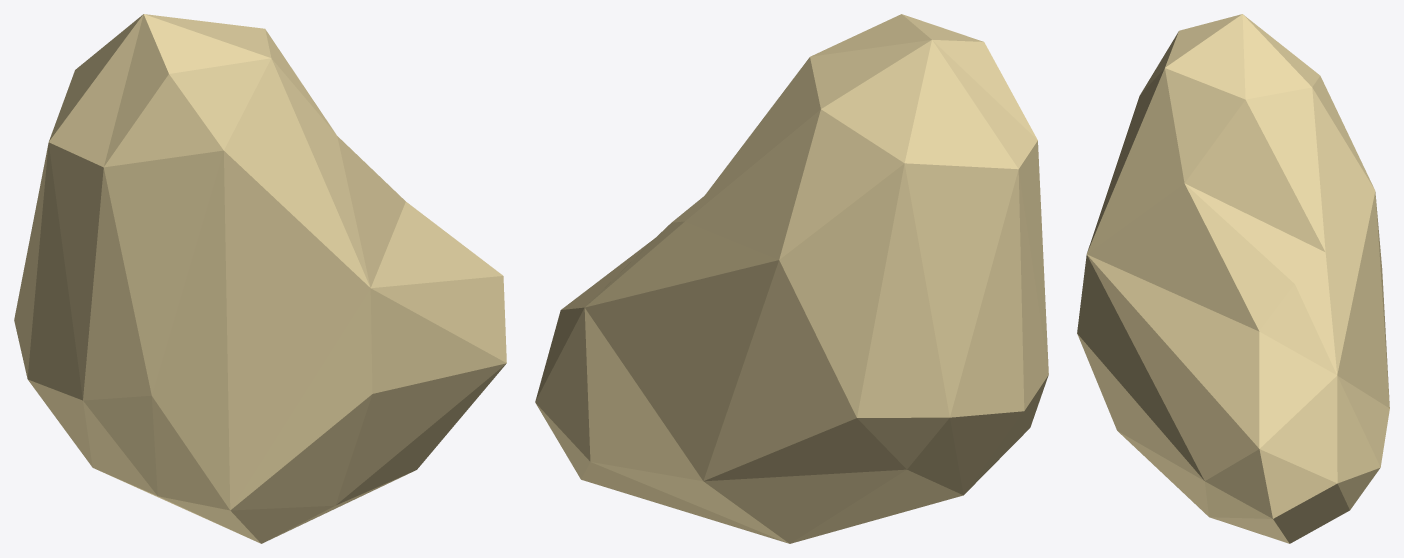
The model's file is Rock (48).fbx.
The picture shows the model from 3 angles, left to right: view 1: azimuth 30°, elevation 25°; view 2: azimuth 150°, elevation 25°; view 3: azimuth 270°, elevation 25°; orthographic projection. The views are drawn at different scales.
Parts seen in each view (by area): view 1: Asteroid47; view 2: Asteroid47; view 3: Asteroid47.
Boxes of the visible parts, x1,y1,x2,y2 form: Asteroid47: [14, 14, 506, 543]; Asteroid47: [535, 14, 1048, 543]; Asteroid47: [1077, 14, 1389, 543].
Bounding box in the file's own units: 117 × 121 × 80.9.
